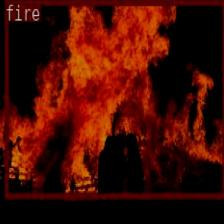fire: (4, 0, 224, 198)
